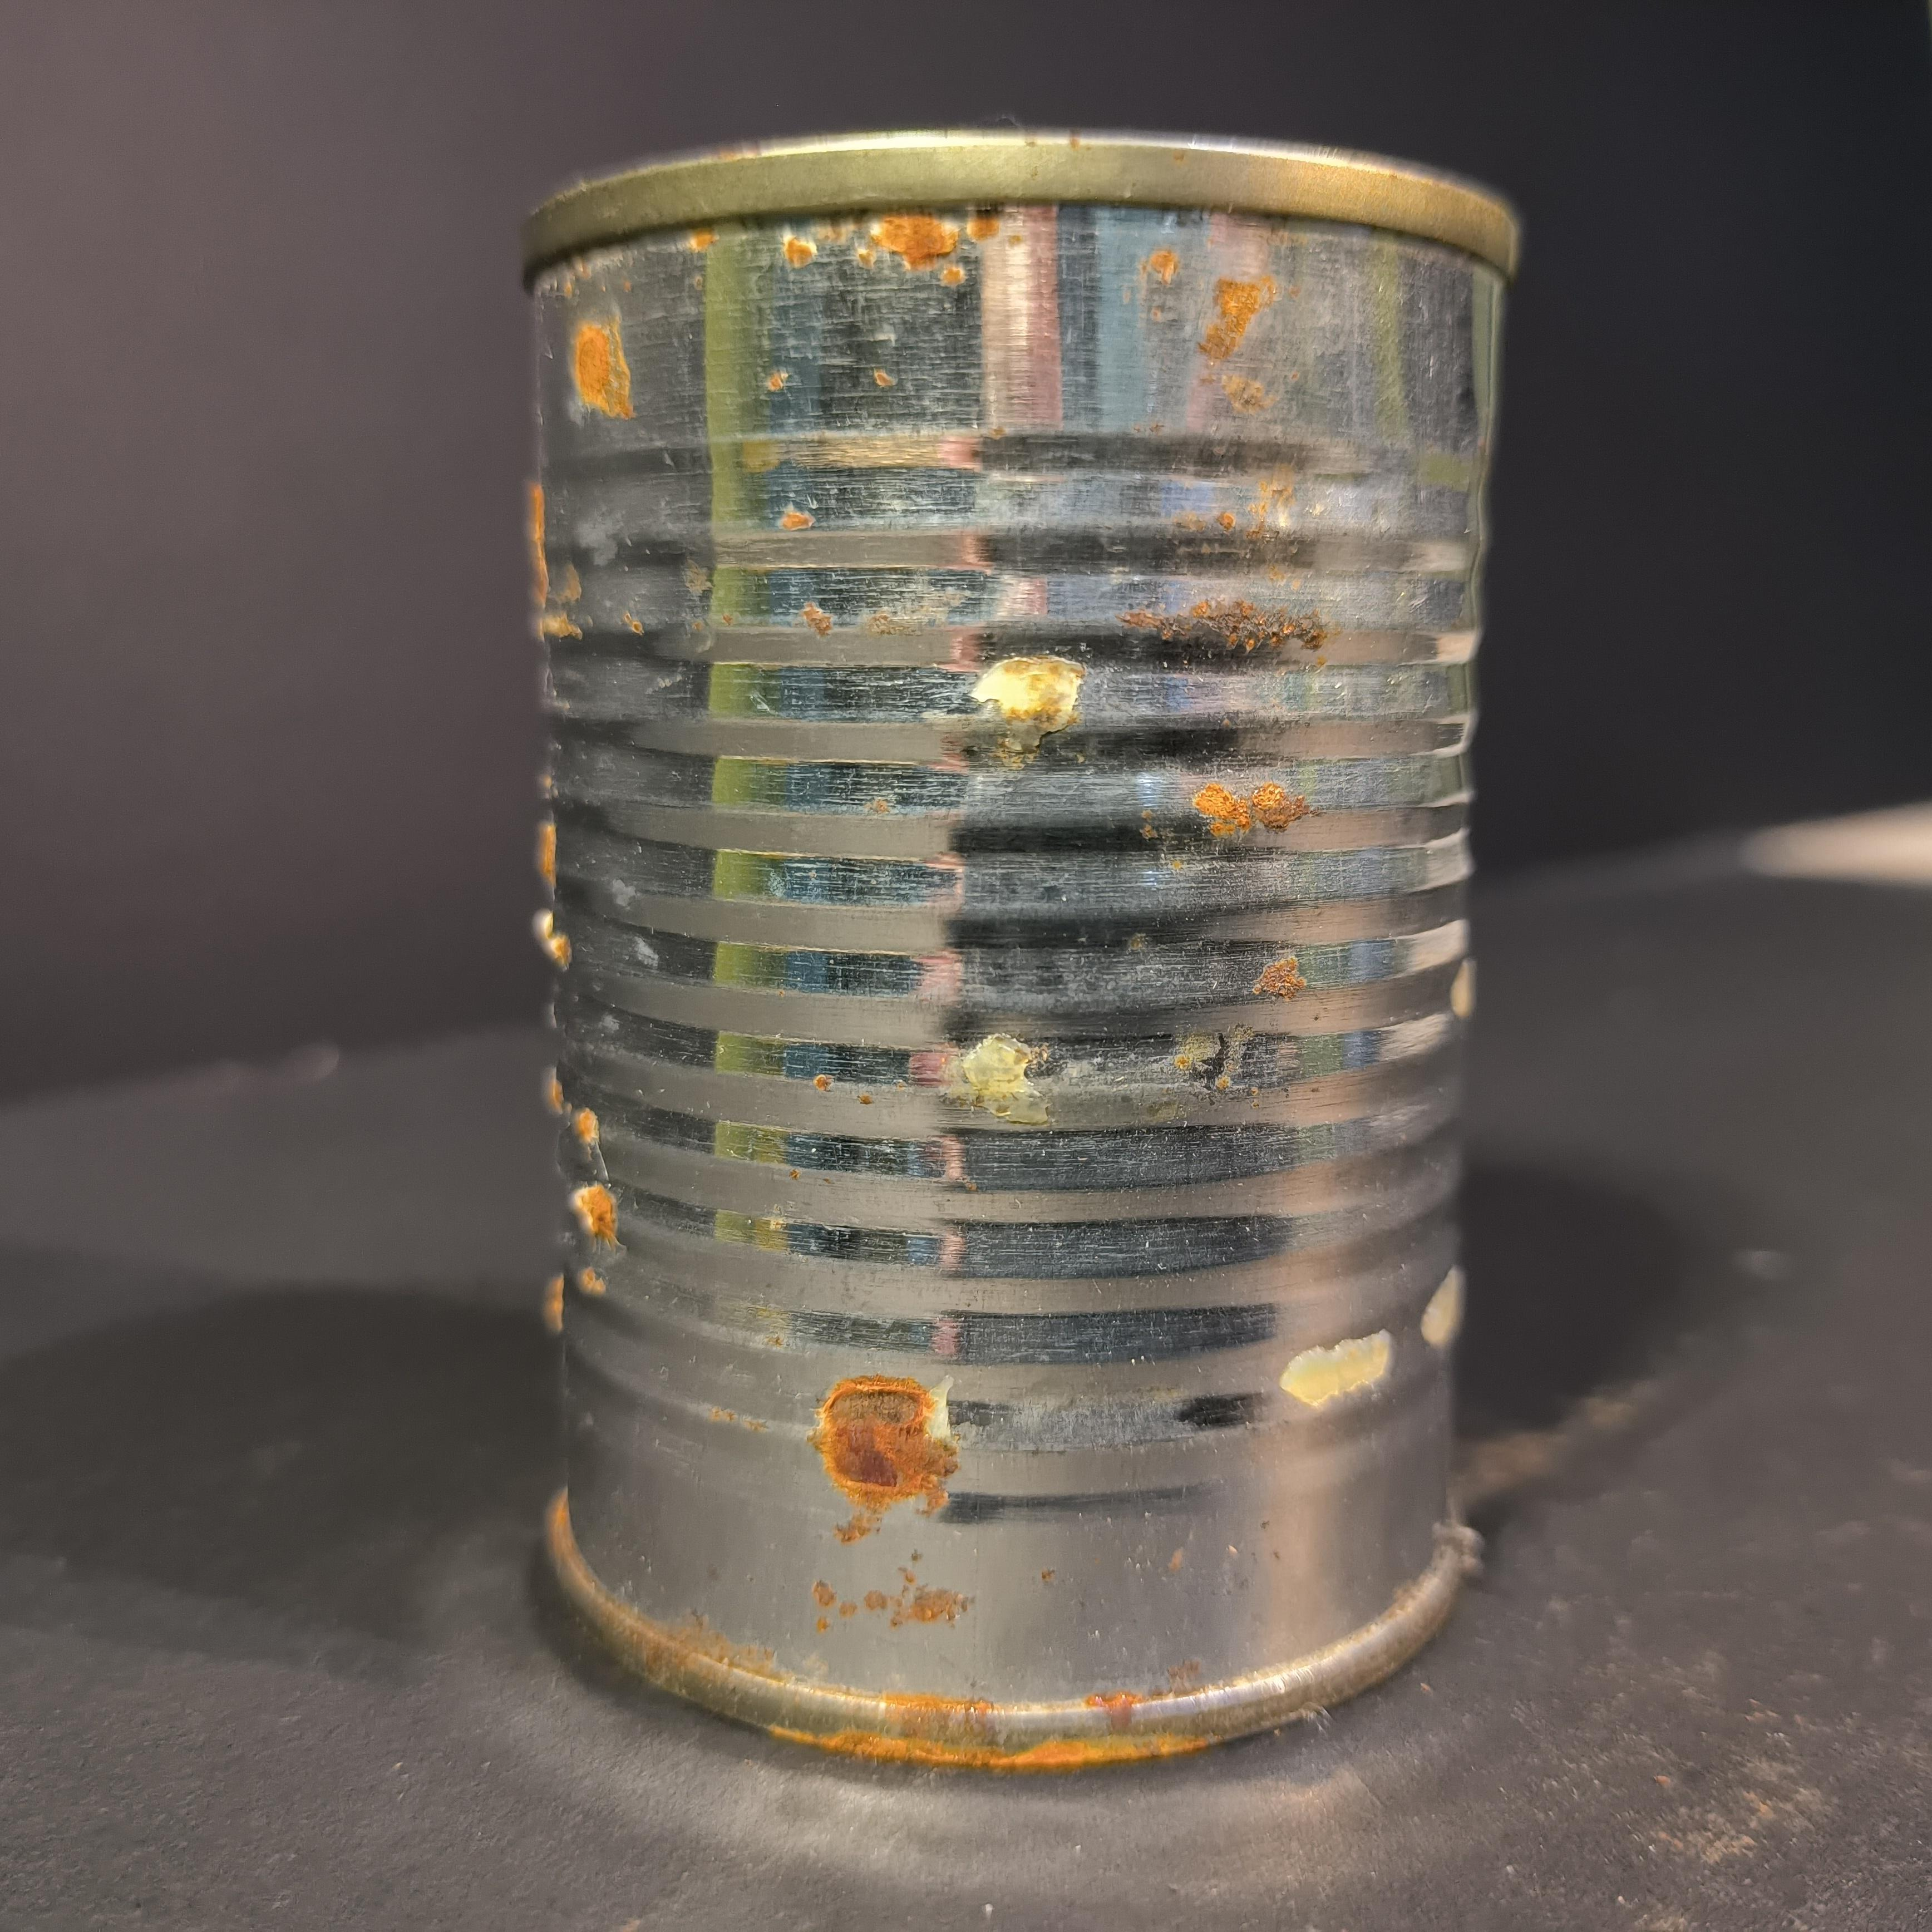Rusted: (490, 114, 1539, 1789)
